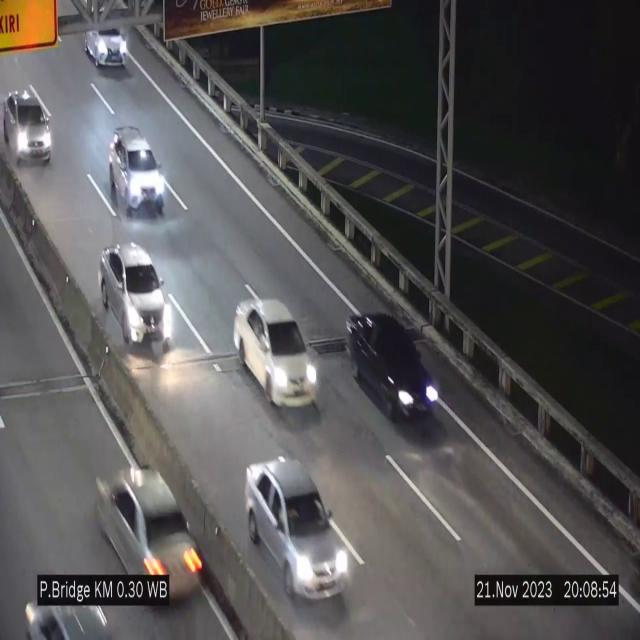Car: (92, 464, 208, 604), (245, 459, 349, 601), (351, 313, 437, 431), (234, 299, 320, 408), (100, 243, 172, 353), (109, 130, 167, 216), (4, 89, 52, 163), (78, 13, 130, 74)
